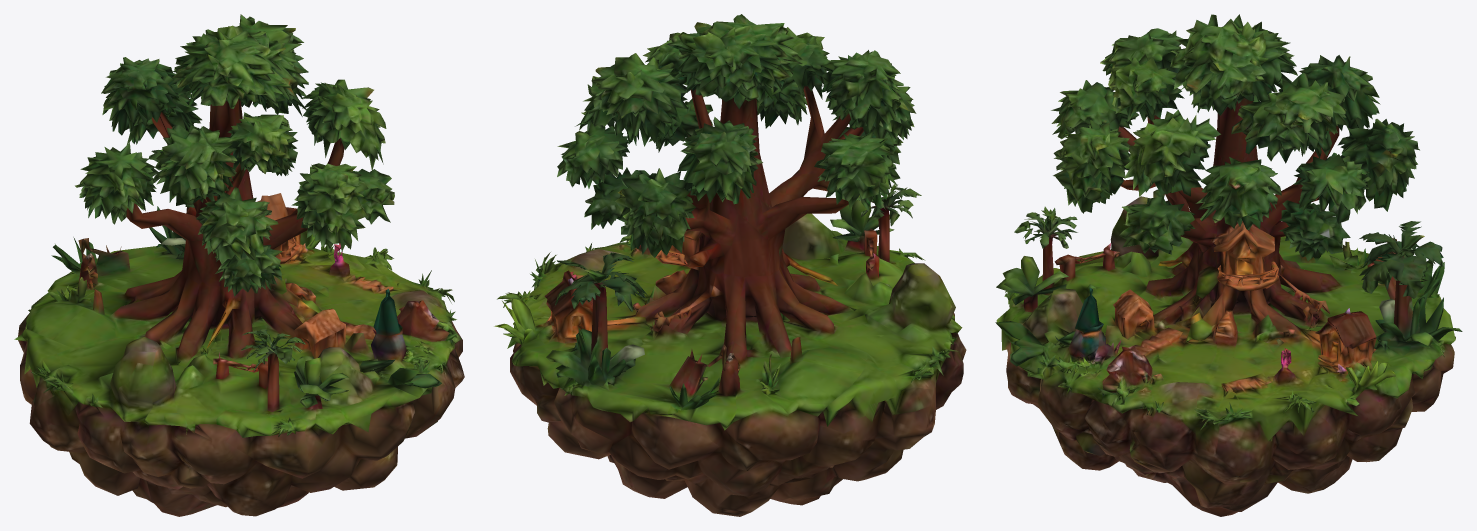
File: half-human-forest-island.glb
3 views of the same model, side by side, from view 1: azimuth 30°, elevation 25°; view 2: azimuth 150°, elevation 25°; view 3: azimuth 270°, elevation 25° (orthographic). The views are drawn at different scales.
Parts seen in each view (by area): view 1: tripo_node_edb2074e-a162-4f93-bee1-8e98db5e4548; view 2: tripo_node_edb2074e-a162-4f93-bee1-8e98db5e4548; view 3: tripo_node_edb2074e-a162-4f93-bee1-8e98db5e4548.
Part boxes in pixels (<box>): tripo_node_edb2074e-a162-4f93-bee1-8e98db5e4548: <box>14,14,464,516</box>; tripo_node_edb2074e-a162-4f93-bee1-8e98db5e4548: <box>494,14,966,516</box>; tripo_node_edb2074e-a162-4f93-bee1-8e98db5e4548: <box>995,14,1462,516</box>.
Size of the model in its own units: 0.9076 by 0.979 by 0.9016.
1 material, 1 textured.
